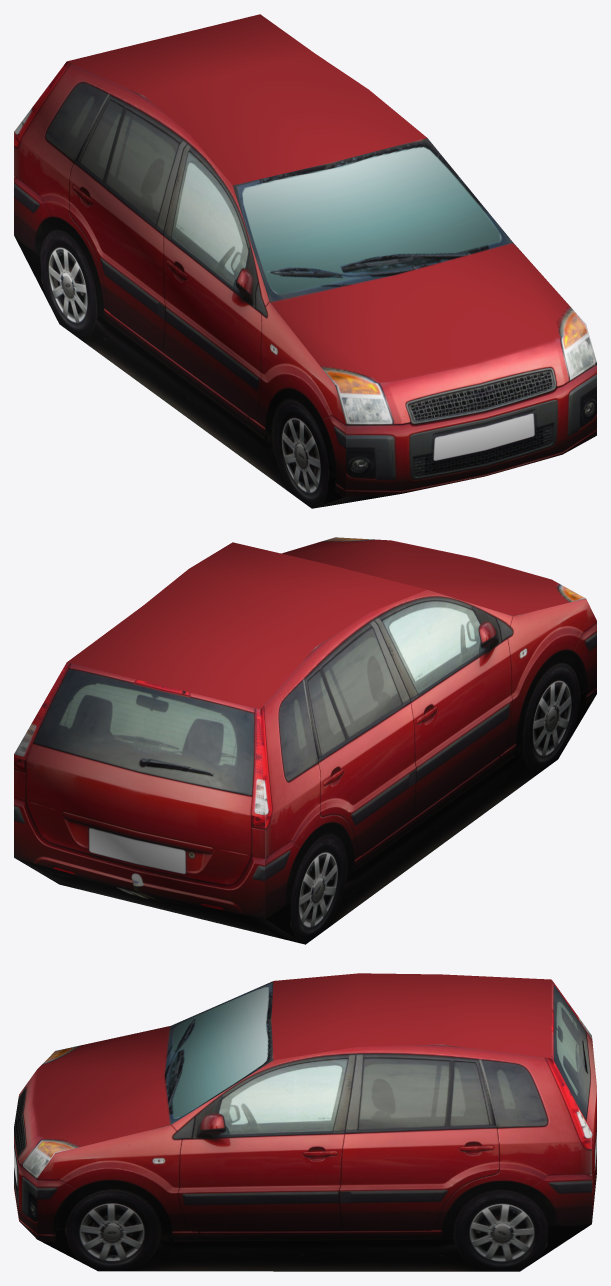
Rendered from Car.glb.
3 renders of one model, top to bottom at view 1: azimuth 30°, elevation 25°; view 2: azimuth 150°, elevation 25°; view 3: azimuth 270°, elevation 25°, orthographic. The views are drawn at different scales.
Visible parts, largest first — view 1: FuzzyRed; view 2: FuzzyRed; view 3: FuzzyRed.
Boxes of the visible parts, bbox=[...] form: FuzzyRed: bbox=[14, 14, 596, 508]; FuzzyRed: bbox=[14, 537, 596, 944]; FuzzyRed: bbox=[14, 973, 596, 1271].
Size of the model in its own units: 1.62 by 1.57 by 3.91.
Materials: 1 (1 with a texture image).
